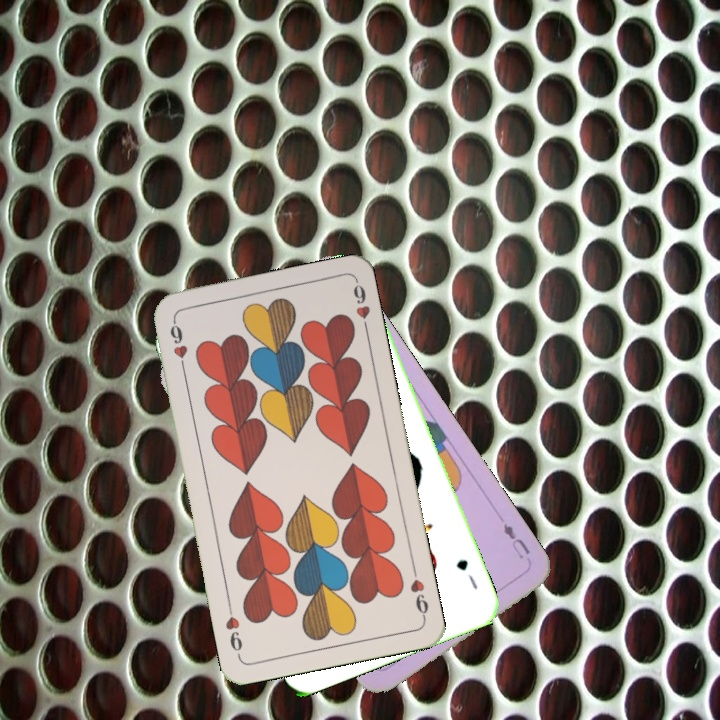EU: (498, 519, 533, 562)
GU: (452, 555, 481, 592)
H9: (406, 563, 431, 622), (166, 315, 190, 374)
